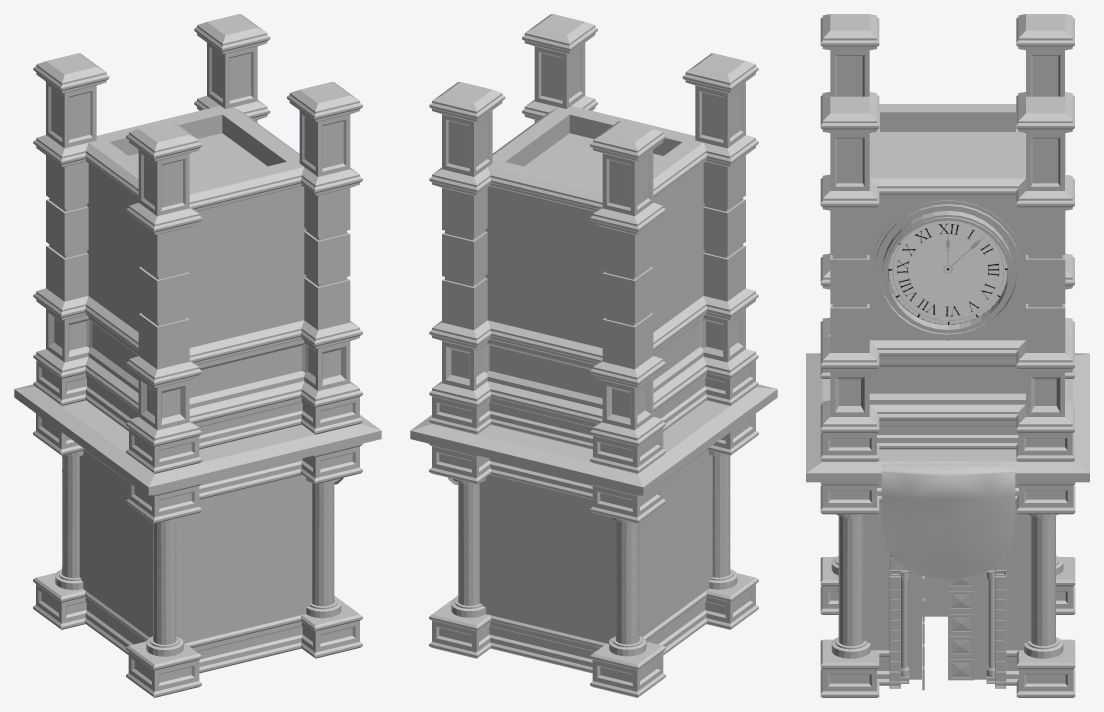
Rendered from Tower.fbx.
3 renders of one model, left to right at view 1: azimuth 30°, elevation 25°; view 2: azimuth 150°, elevation 25°; view 3: azimuth 270°, elevation 25°, orthographic. The views are drawn at different scales.
Parts seen in each view (by area): view 1: Tower; view 2: Tower; view 3: Tower.
Part boxes in pixels (bbox=[...]): Tower: bbox=[14, 14, 381, 697]; Tower: bbox=[410, 14, 777, 697]; Tower: bbox=[806, 14, 1089, 697].
Bounding box in the file's own units: 599 × 1309 × 579.
